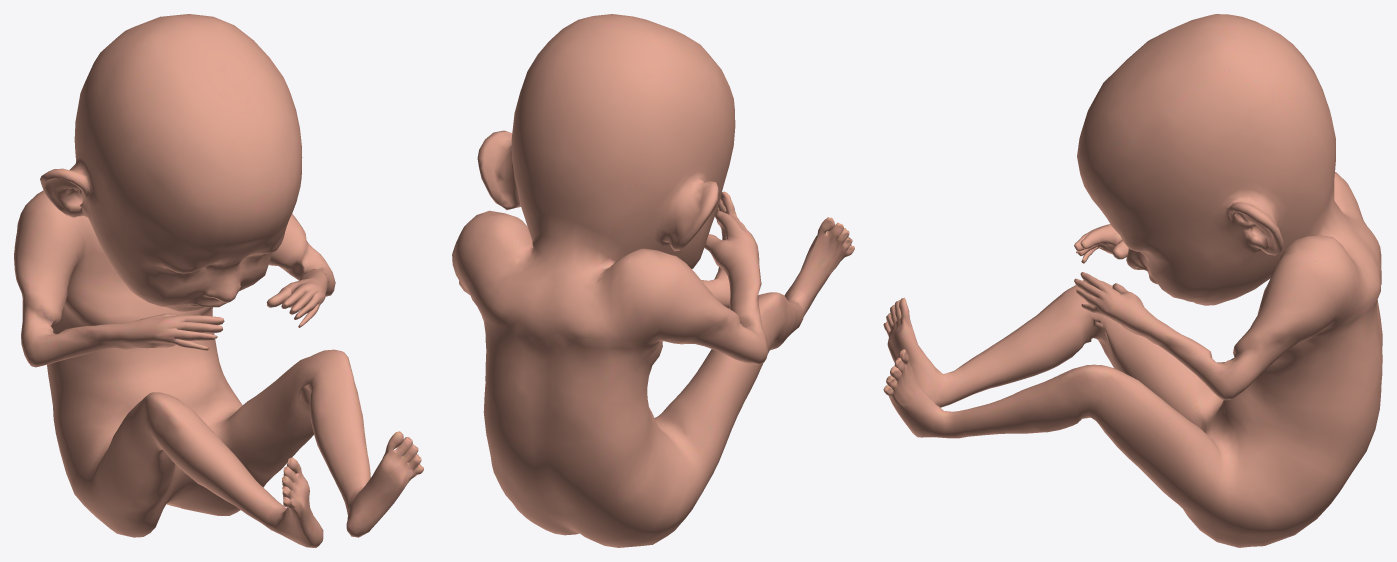
The picture shows the model from 3 angles, left to right: view 1: azimuth 30°, elevation 25°; view 2: azimuth 150°, elevation 25°; view 3: azimuth 270°, elevation 25°; orthographic projection.
Parts seen in each view (by area): view 1: Baby; view 2: Baby; view 3: Baby.
Part boxes in pixels (x1=…): Baby: x1=14, y1=14, x2=423, y2=547; Baby: x1=452, y1=14, x2=854, y2=547; Baby: x1=883, y1=14, x2=1382, y2=547.
Size of the model in its own units: 0.1443 by 0.2283 by 0.2062.
1 material, 1 textured.
